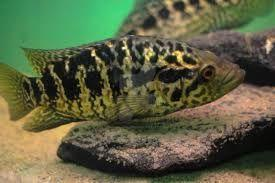Jaguar Gapote: (0, 37, 245, 134)
